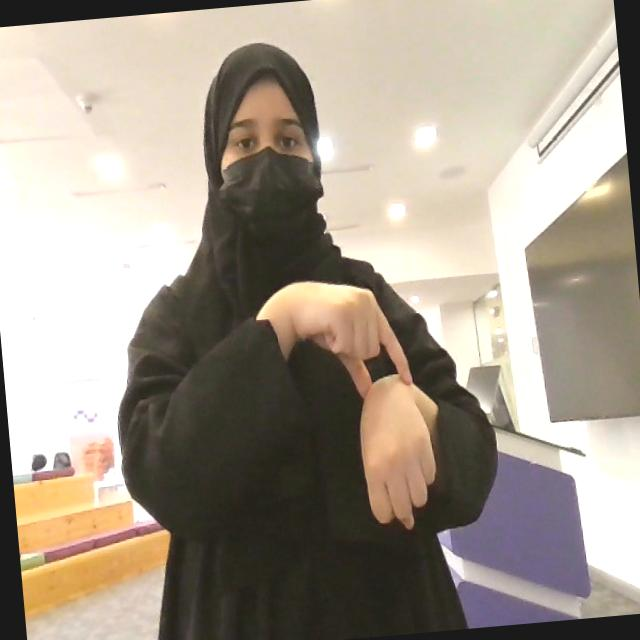appointment: (279, 268, 442, 542)
